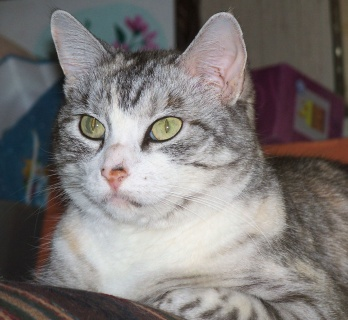Cat: (2, 1, 348, 320)
